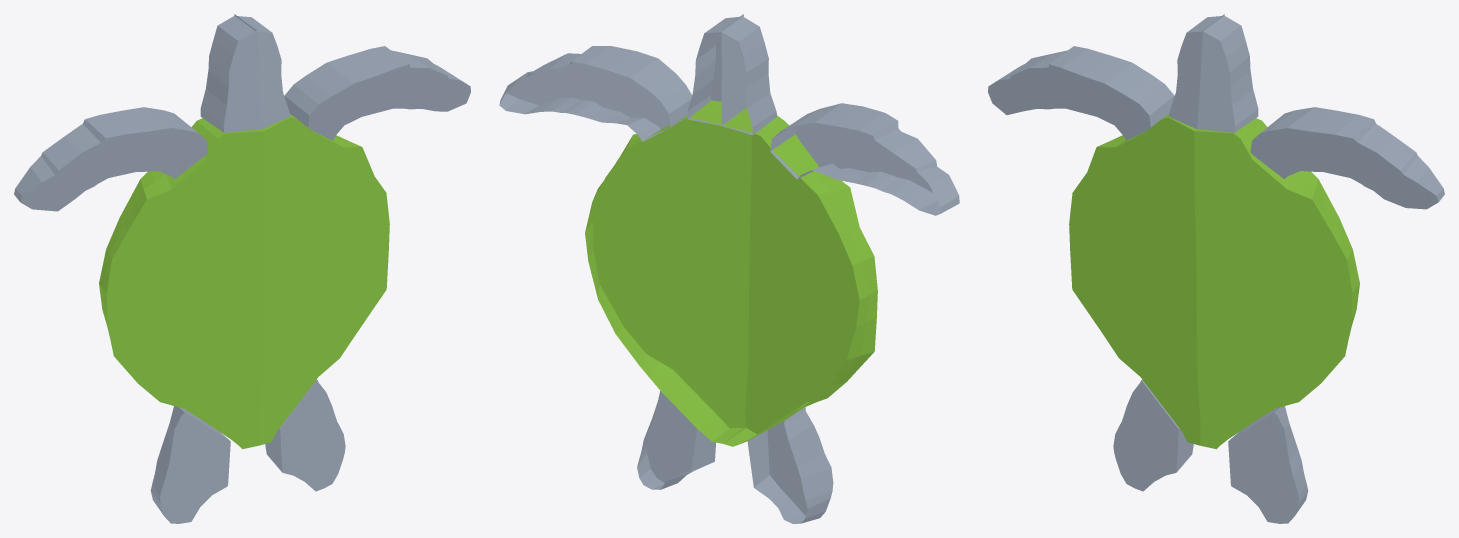
Rendered from turtle.glb.
3 renders of one model, left to right at view 1: azimuth 30°, elevation 25°; view 2: azimuth 150°, elevation 25°; view 3: azimuth 330°, elevation 25°, orthographic.
Parts seen in each view (by area): view 1: Turtle; view 2: Turtle; view 3: Turtle.
Boxes of the visible parts, <box> form: Turtle: <box>14,14,470,523</box>; Turtle: <box>499,14,959,523</box>; Turtle: <box>988,14,1444,523</box>.
Bounding box in the file's own units: 0.9048 × 0.9214 × 0.1126.
